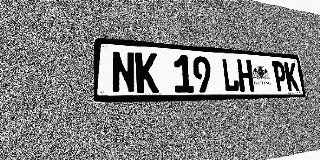1: (173, 54, 194, 93)
9: (192, 56, 212, 92)
H: (237, 59, 254, 92)
K: (135, 52, 159, 93), (284, 62, 299, 91)
L: (221, 58, 240, 92)
N: (111, 50, 136, 93)
P: (272, 61, 288, 91)
